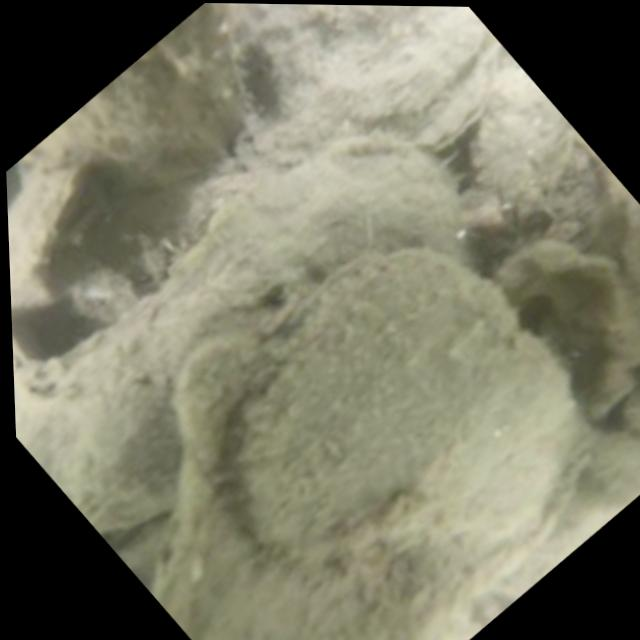Oyster-Indeterminate: (14, 134, 451, 526), (233, 254, 585, 561), (230, 4, 510, 153), (11, 3, 247, 179), (470, 69, 598, 243), (8, 161, 105, 316), (618, 194, 640, 360)
